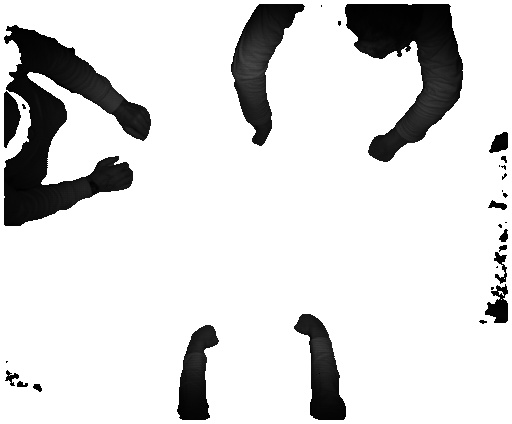fist: (115, 100, 151, 143), (368, 133, 399, 167), (288, 312, 325, 338), (192, 320, 223, 351), (252, 130, 271, 151)
hand: (95, 152, 135, 199)
